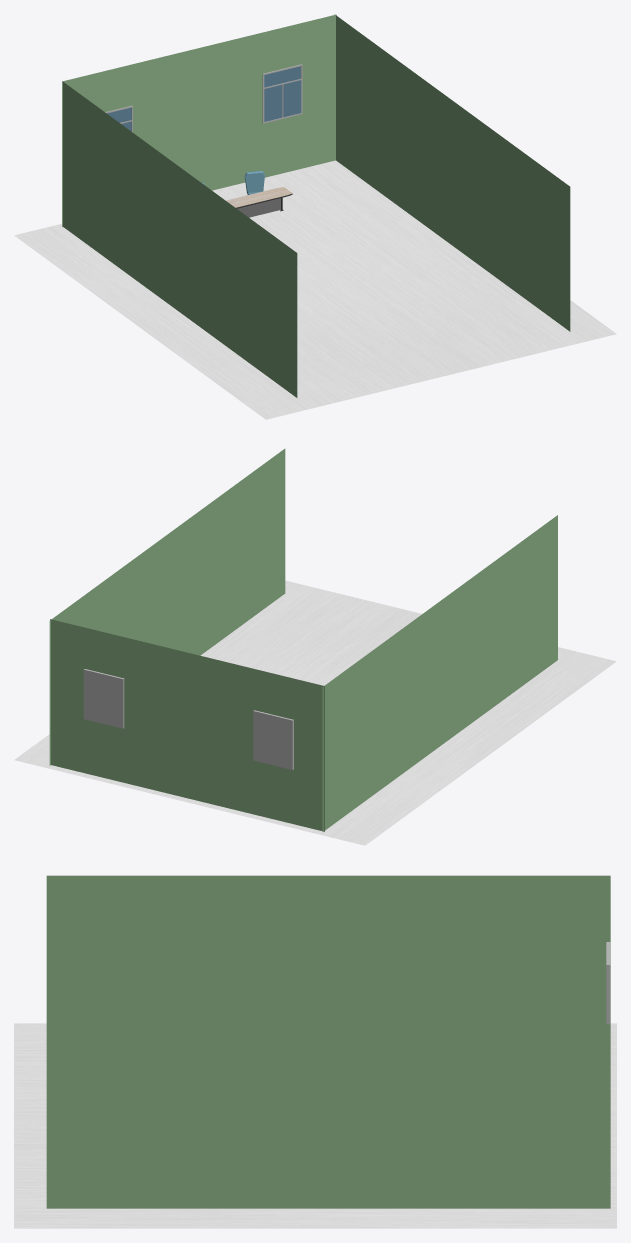
The model's file is room.glb.
The picture shows the model from 3 angles, top to bottom: view 1: azimuth 30°, elevation 25°; view 2: azimuth 150°, elevation 25°; view 3: azimuth 270°, elevation 25°; orthographic projection. The views are drawn at different scales.
Parts seen in each view (by area): view 1: Plane.003, Plane.002, Plane.001, Plane, Cube.001, desk; view 2: Plane, Plane.001, Plane.003, Plane.002, Cube.001, Cube.002; view 3: Plane.002, Plane.001, Plane.003.
Part boxes in pixels (x1,y1,x2,y2): Plane.003: (14,160,616,419); Plane.002: (334,14,570,331); Plane.001: (63,82,297,397); Plane: (62,14,336,226); Cube.001: (262,64,302,123); desk: (226,187,292,217); Plane: (50,619,324,831); Plane.001: (322,515,557,831); Plane.003: (14,580,616,845); Plane.002: (49,448,285,765); Cube.001: (83,669,124,728); Cube.002: (253,710,293,769); Plane.002: (46,1035,610,1208); Plane.001: (46,875,610,1034); Plane.003: (14,1023,616,1228).
Size of the model in its own units: 26.92 by 10.7 by 33.45.
Materials: 9 (2 with a texture image).
